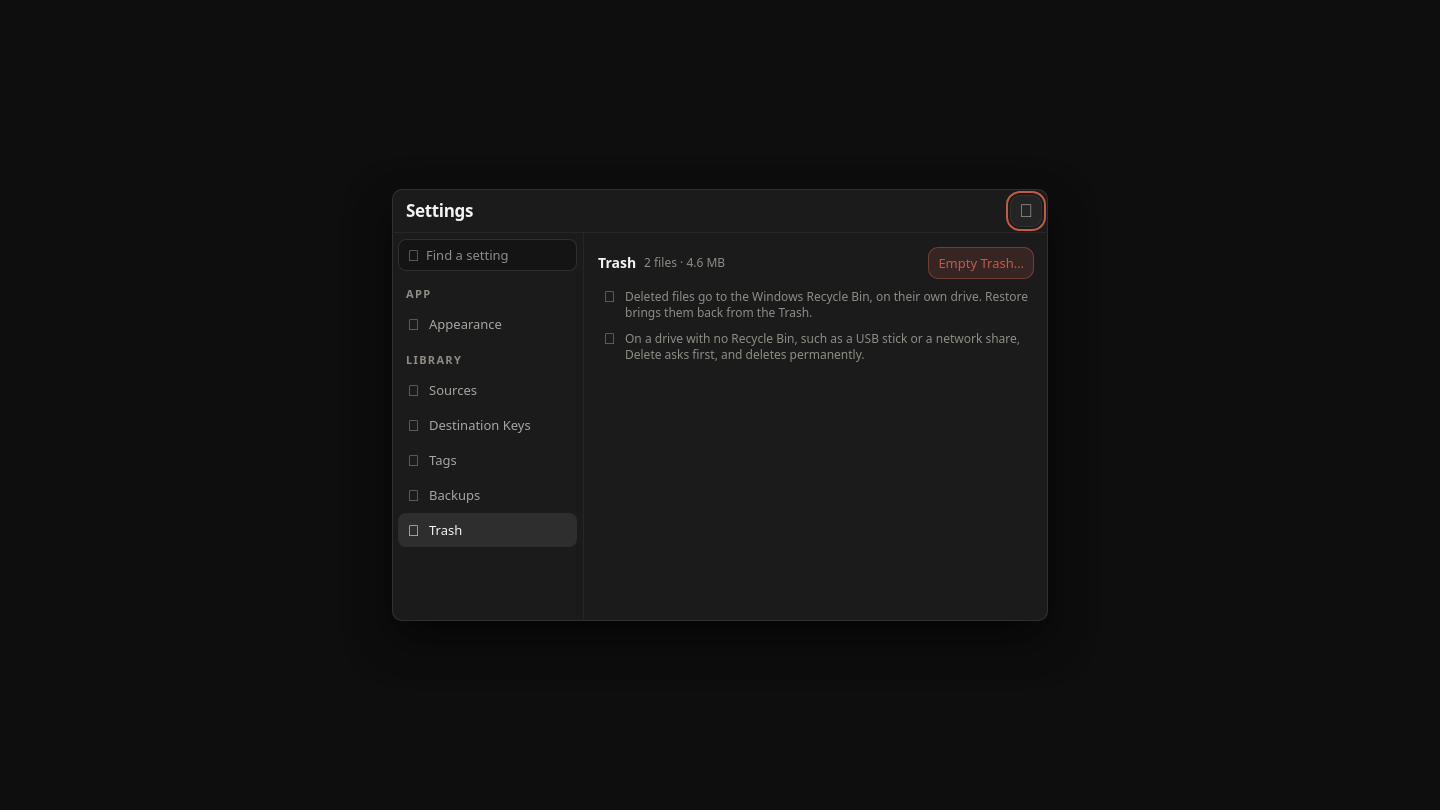
the files that stayed are listed in the banner, each with why and Show in Trash
Step 1. Click the button "Empty Trash…" → (981, 263), box [928, 247, 1034, 279]
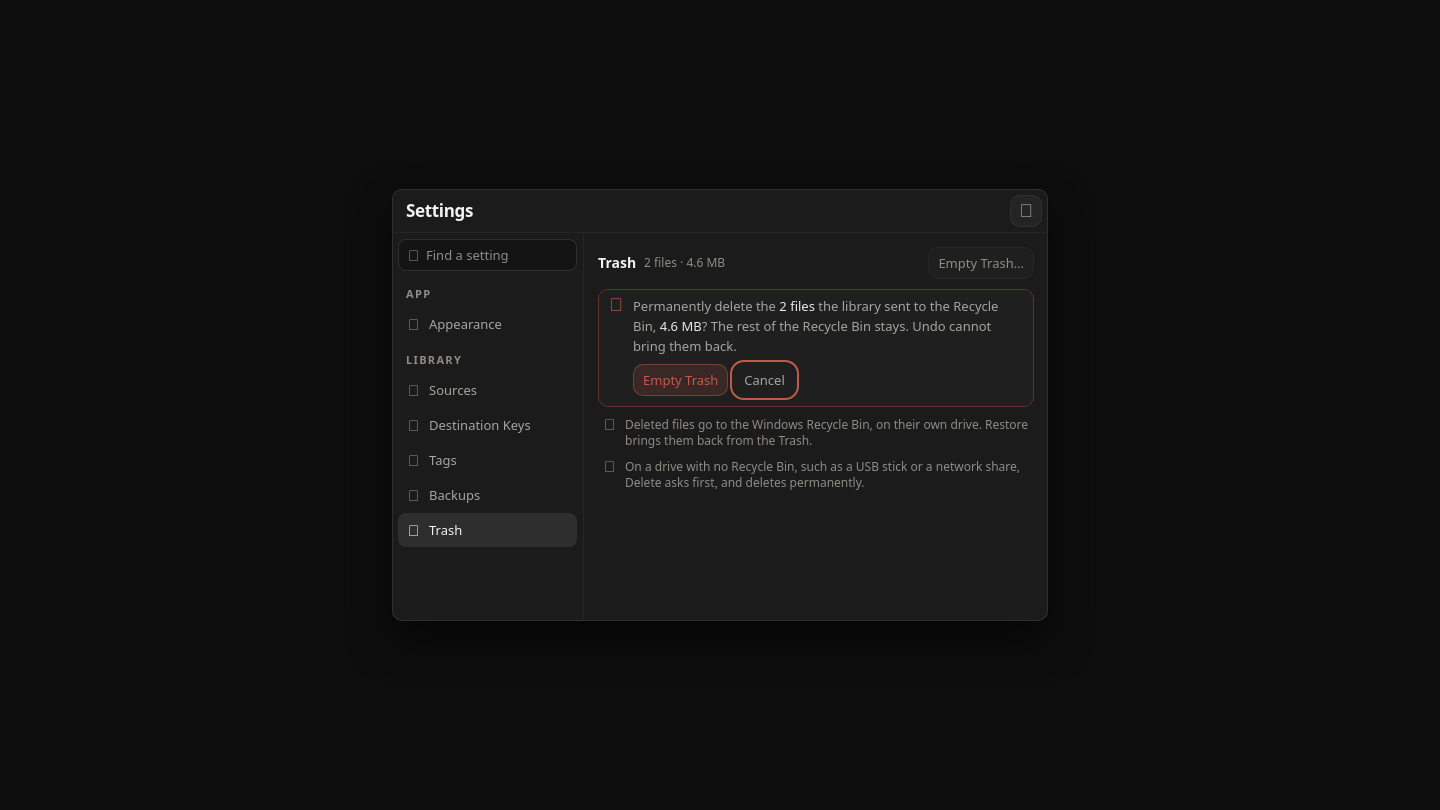
Step 2. Click the button "Empty Trash" → (681, 380), box [633, 364, 728, 396]
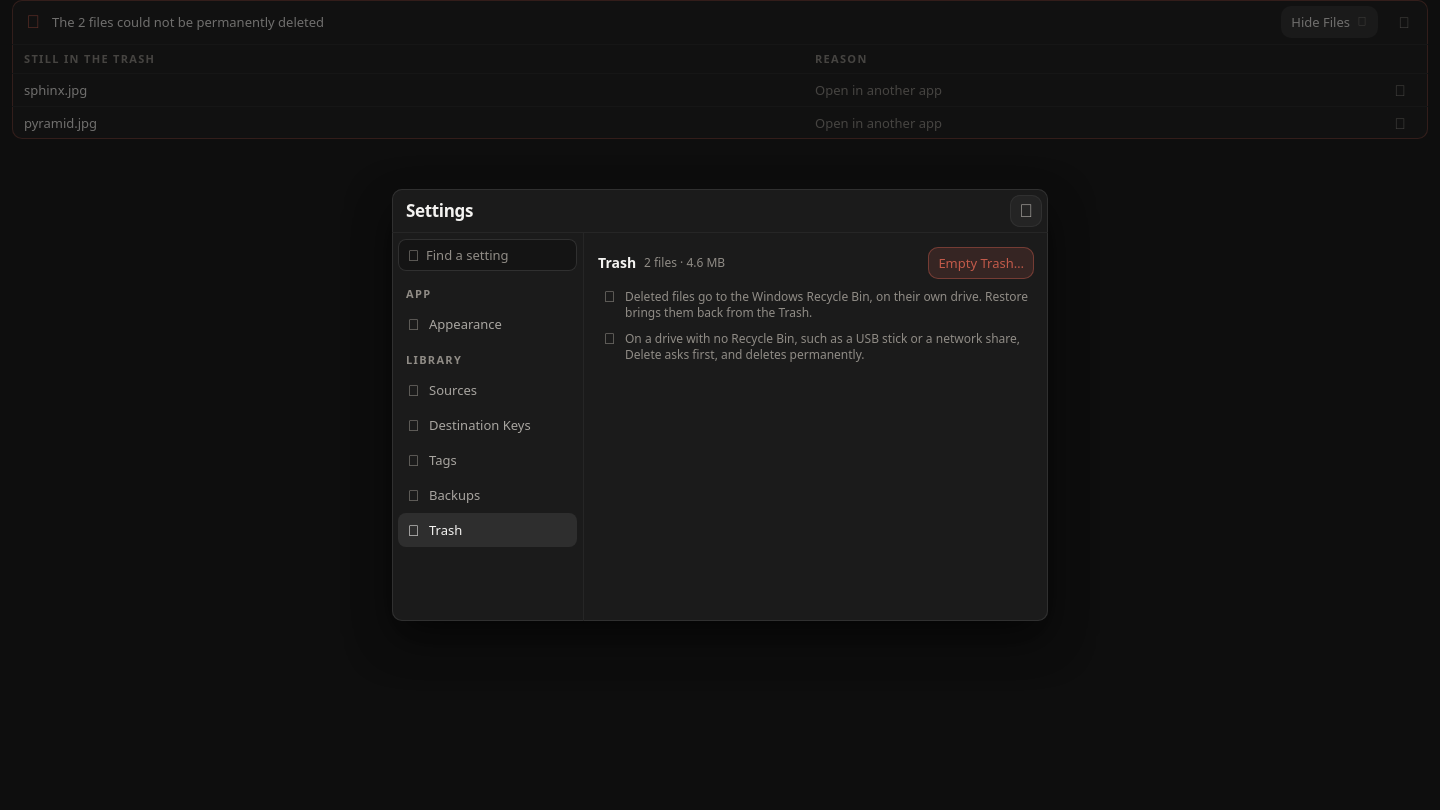
Expected: the text "The 2 files could not be permanently deleted" is shown, [52, 13, 324, 31]
Expected: the text "Still in the Trash" is shown, [24, 51, 155, 66]
